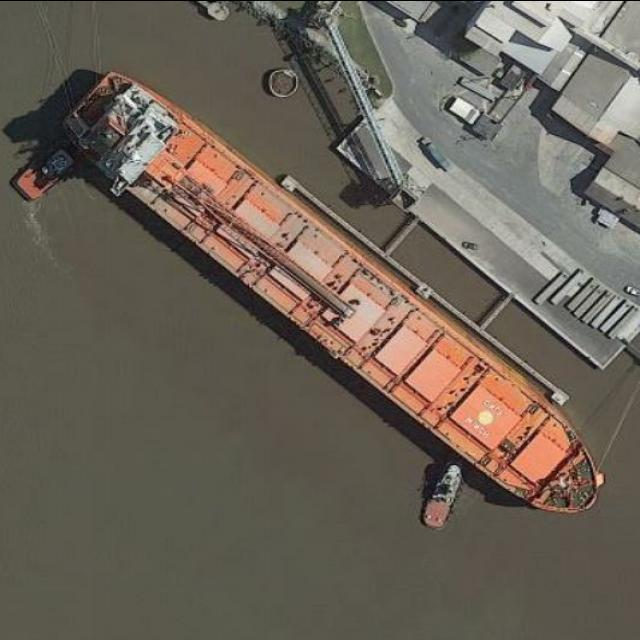ship: (62, 66, 600, 512), (412, 454, 469, 530)
